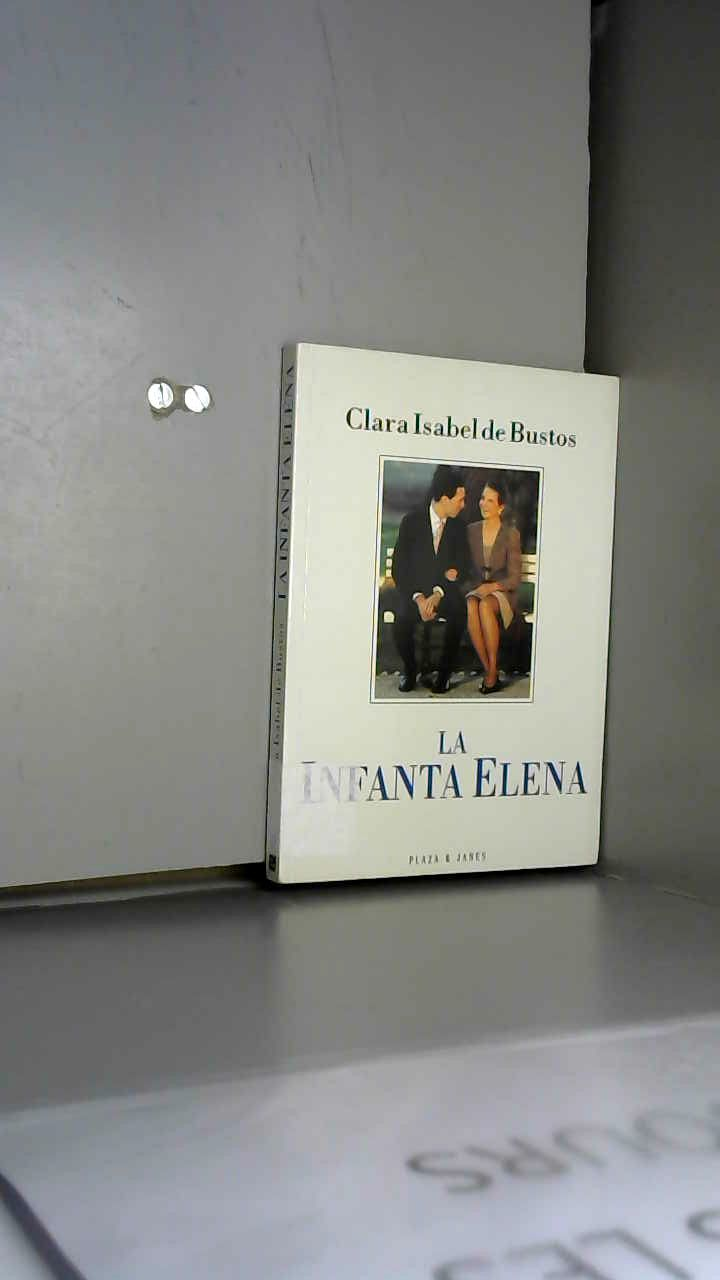book: (260, 320, 720, 934)
